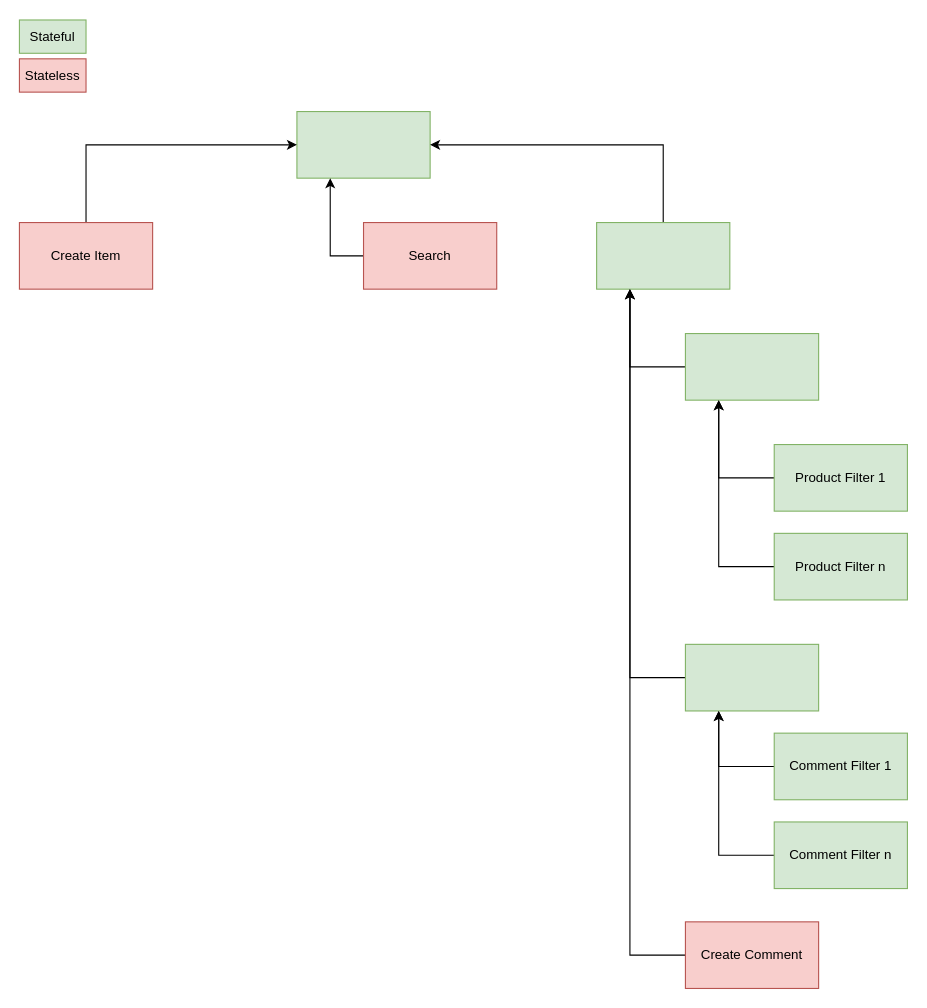
Image size: 927x1008. Some labels were removed from this diagram. Each missing label, with the centre of its shape:
App: the point at 363,144
Comment List: the point at 751,677
Product Info: the point at 751,366
Product Information: the point at 663,255
